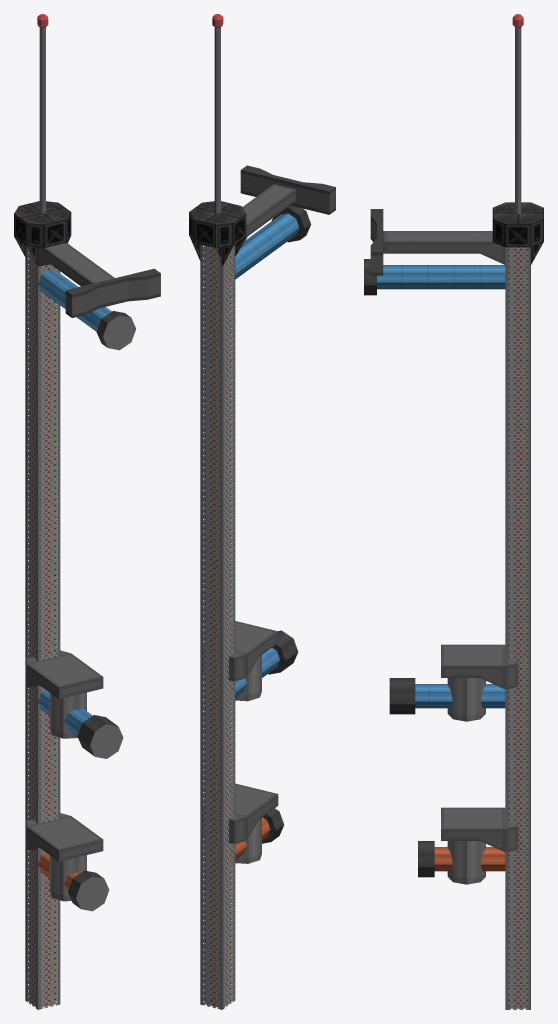
The model's file is soyuz_launcher_support.obj.
3 views of the same model, side by side, from view 1: azimuth 30°, elevation 25°; view 2: azimuth 150°, elevation 25°; view 3: azimuth 270°, elevation 25° (orthographic).
Visible parts, largest first — view 1: Cube.005_Cube.006; view 2: Cube.005_Cube.006; view 3: Cube.005_Cube.006.
Part boxes in pixels (x1,y1,x2,y2): Cube.005_Cube.006: (14,14,160,1009); Cube.005_Cube.006: (189,14,335,1009); Cube.005_Cube.006: (364,14,543,1009).
Bounding box in the file's own units: 4 × 42.5 × 7.
